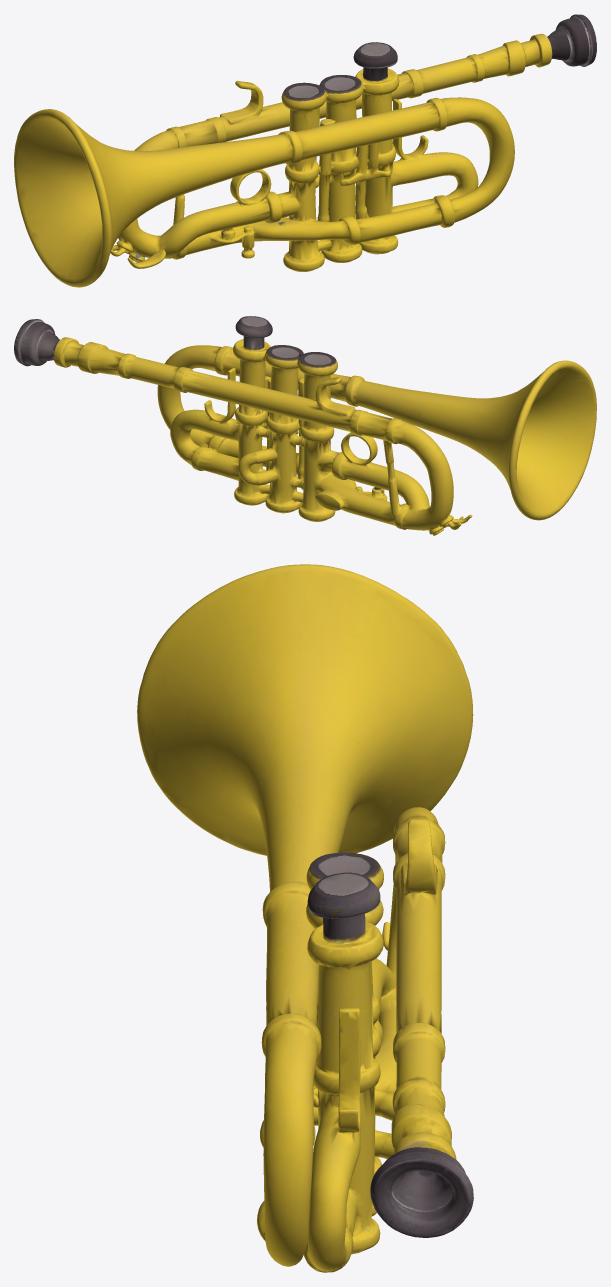
The model's file is trumpet.glb.
3 renders of one model, top to bottom at view 1: azimuth 30°, elevation 25°; view 2: azimuth 150°, elevation 25°; view 3: azimuth 270°, elevation 25°, orthographic. The views are drawn at different scales.
Visible parts, largest first — view 1: mesh_node; view 2: mesh_node; view 3: mesh_node.
Boxes of the visible parts, x1,y1,x2,y2 form: mesh_node: (14, 14, 596, 287); mesh_node: (14, 316, 596, 535); mesh_node: (137, 564, 473, 1272).
Size of the model in its own units: 1.9 by 0.7187 by 0.5523.
1 material, 1 textured.
